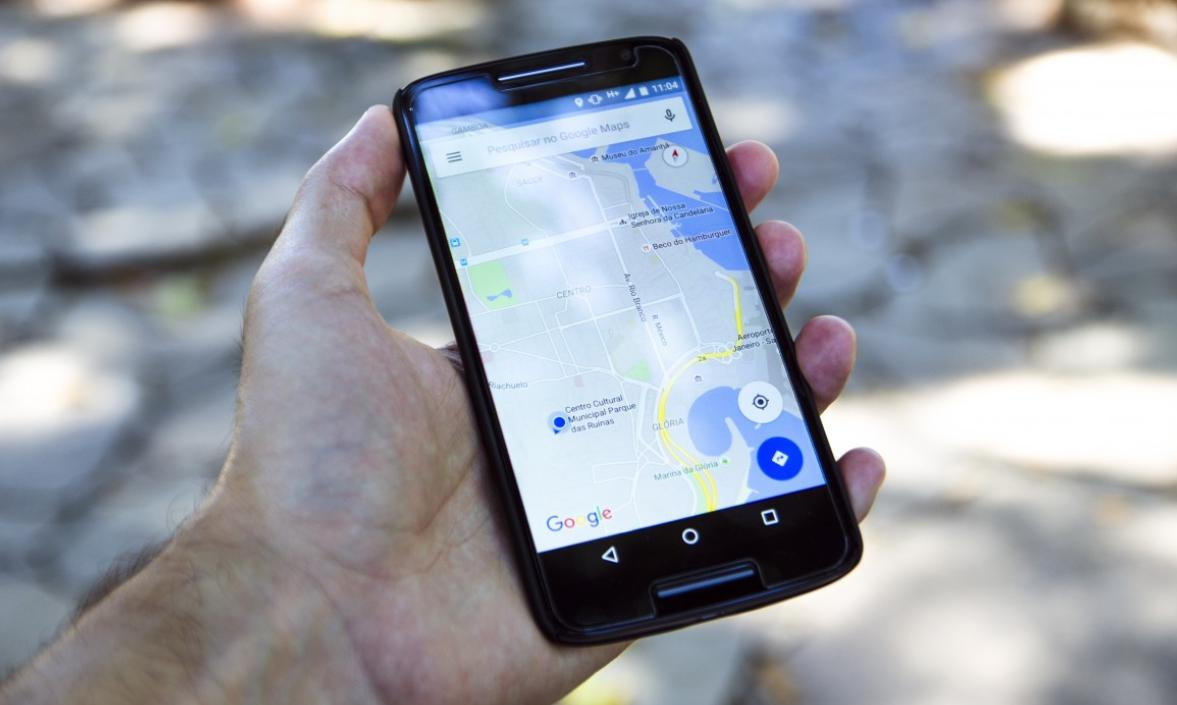mobile: (394, 37, 862, 646)
